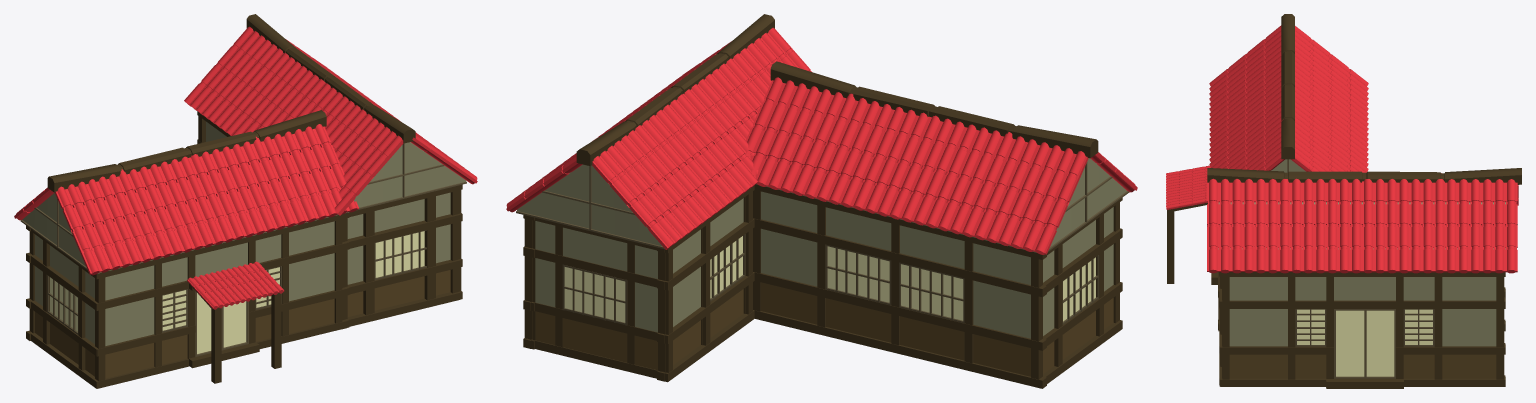
Rendered from japanese house 2 recht 8.fbx.
The picture shows the model from 3 angles, left to right: view 1: azimuth 30°, elevation 25°; view 2: azimuth 150°, elevation 25°; view 3: azimuth 270°, elevation 25°; orthographic projection. The views are drawn at different scales.
Parts seen in each view (by area): view 1: Circle, Cube.013, Circle.008, Cube, Cube.032, Cube.002, Cube.005, Cube.003, Cube.033, Cube.016, Circle.005, Cube.034 (+12 smaller); view 2: Circle.001, Cube.013, Circle.008, Cube, Cube.002, Cube.026, Cube.016, Cube.032, Cube.003, Cube.022, Cube.033, Cube.005 (+9 smaller); view 3: Circle.007, Cube.026, Cube.016, Circle.001, Circle, Cube.023, Cube.022, Cube.034, Cube.005, Cube.024, Circle.005, Cube.019 (+1 smaller).
Part boxes in pixels (x1,y1,x2,y2): Circle: [55, 124, 359, 275]; Cube.013: [26, 215, 343, 388]; Circle.008: [184, 26, 403, 215]; Cube: [35, 221, 334, 345]; Cube.032: [197, 111, 459, 329]; Cube.002: [35, 299, 334, 378]; Cube.005: [47, 110, 326, 192]; Cube.003: [50, 267, 279, 353]; Cube.033: [354, 142, 466, 207]; Cube.016: [206, 121, 450, 284]; Circle.005: [187, 261, 284, 309]; Cube.034: [246, 14, 415, 143]; Circle.001: [745, 77, 1088, 254]; Cube.013: [753, 184, 1122, 388]; Circle.008: [592, 27, 811, 249]; Cube: [761, 191, 1113, 338]; Cube.002: [761, 282, 1113, 376]; Cube.026: [523, 197, 745, 381]; Cube.016: [535, 198, 743, 332]; Cube.032: [527, 186, 754, 382]; Cube.003: [827, 246, 1095, 321]; Cube.022: [535, 289, 743, 370]; Cube.033: [517, 164, 662, 246]; Cube.005: [770, 61, 1098, 158]; Circle.007: [1207, 178, 1517, 273]; Cube.026: [1218, 272, 1505, 388]; Cube.016: [1229, 277, 1496, 346]; Circle.001: [1291, 26, 1368, 172]; Circle: [1209, 25, 1284, 170]; Cube.023: [1297, 309, 1432, 376]; Cube.022: [1229, 354, 1496, 378]; Cube.034: [1207, 168, 1521, 184]; Cube.005: [1281, 14, 1294, 159]; Cube.024: [1295, 309, 1504, 378]; Circle.005: [1166, 165, 1210, 209]; Cube.019: [1167, 209, 1174, 283].
Bounding box in the file's own units: 3627 × 1681 × 2877.
